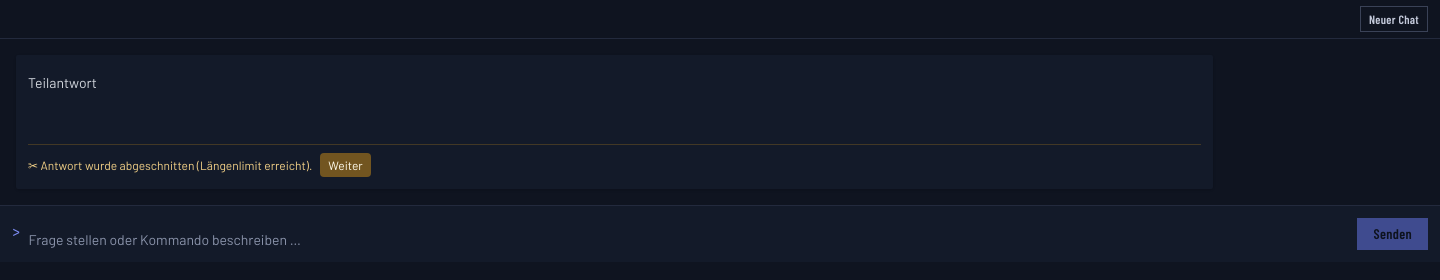
it: ChatPanel send state edge cases (Spec 0066, review) › shows the Stopp button while a 'Weiter' continuation runs
The width and height of the screenshot is (1440, 280).
Click the button "Weiter" at [346, 165], box [320,153,371,177]
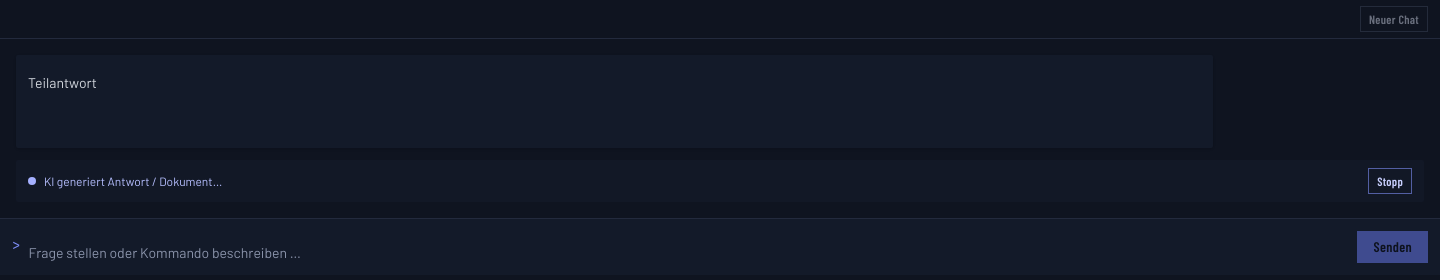
Result: the button "Stopp" is shown at [1368,168,1412,194]
